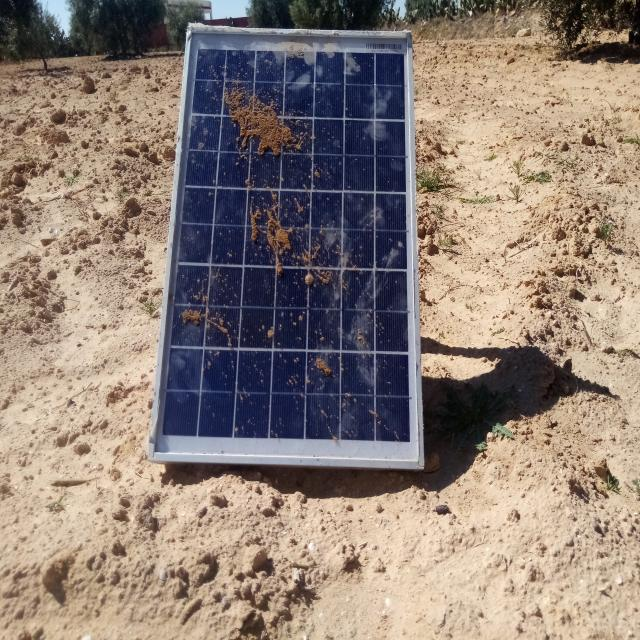faulty: (151, 25, 422, 470)
